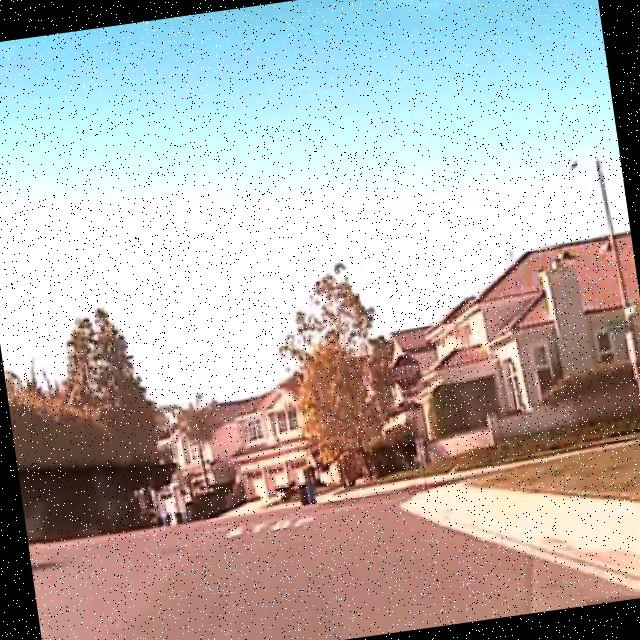Stop: (389, 353, 425, 392)
